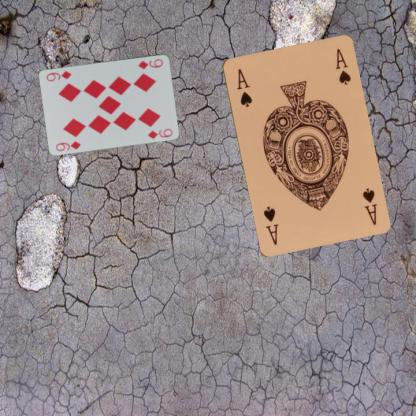9d: (53, 138, 82, 152), (136, 56, 164, 70)
As: (234, 66, 253, 108), (359, 185, 378, 226)
